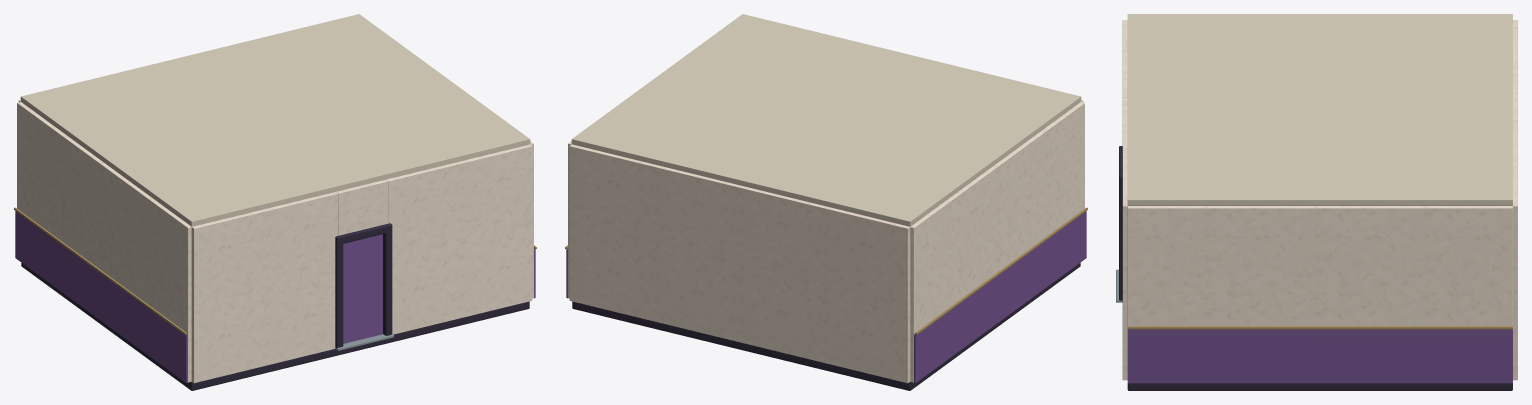
The model's file is electrical_room.glb.
3 renders of one model, left to right at view 1: azimuth 30°, elevation 25°; view 2: azimuth 150°, elevation 25°; view 3: azimuth 270°, elevation 25°, orthographic. The views are drawn at different scales.
Visible parts, largest first — view 1: ceiling.001, wall.002, wall.001, wall.004, lower_panel.003, front.013_leaf, electrical_room_floor, door_lintel, front.013_jamb, front.013_jamb.001, panel_rail.003, front.013_header; view 2: ceiling.001, wall.003, wall.004, lower_panel.003, electrical_room_floor, panel_rail.003; view 3: ceiling.001, wall.005, lower_panel.004, electrical_room_floor, wall.003, panel_rail.004, wall.001, wall.002, front.013_jamb.
Part boxes in pixels (box(x1,y1,x2,y2)): ceiling.001: box(20, 14, 530, 226); wall.002: box(191, 191, 337, 383); wall.001: box(386, 144, 532, 334); wall.004: box(17, 102, 191, 382); lower_panel.003: box(15, 211, 187, 382); front.013_leaf: box(343, 234, 382, 343); electrical_room_floor: box(21, 263, 529, 390); door_lintel: box(336, 179, 387, 235); front.013_jamb: box(383, 229, 392, 335); front.013_jamb.001: box(335, 241, 343, 348); panel_rail.003: box(14, 207, 186, 334); front.013_header: box(335, 223, 392, 244); ceiling.001: box(571, 14, 1081, 226); wall.003: box(569, 144, 910, 383); wall.004: box(910, 102, 1084, 382); lower_panel.003: box(914, 211, 1086, 382); electrical_room_floor: box(572, 263, 1080, 390); panel_rail.003: box(915, 207, 1087, 334); ceiling.001: box(1127, 14, 1512, 205); wall.005: box(1127, 206, 1512, 326); lower_panel.004: box(1127, 329, 1512, 383); electrical_room_floor: box(1127, 383, 1512, 390); wall.003: box(1513, 20, 1517, 380); panel_rail.004: box(1127, 326, 1512, 329); wall.001: box(1122, 127, 1127, 380); wall.002: box(1122, 20, 1127, 99); front.013_jamb: box(1119, 180, 1122, 300).
Size of the model in its own units: 8.32 by 3.84 by 7.3.
Materials: 8 (2 with a texture image).
